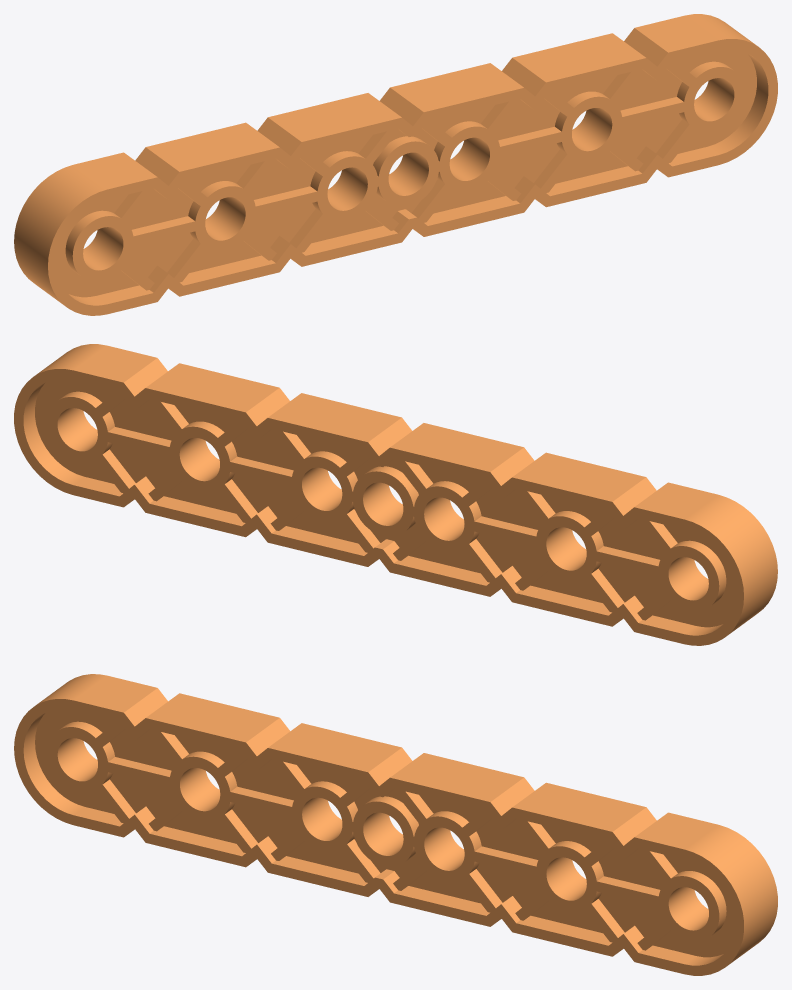
3 views of the same model, one above another, from view 1: azimuth 30°, elevation 25°; view 2: azimuth 150°, elevation 25°; view 3: azimuth 330°, elevation 25° (orthographic).
Visible parts, largest first — view 1: main_ff671f; view 2: main_ff671f; view 3: main_ff671f.
Boxes of the visible parts, x1,y1,x2,y2 form: main_ff671f: [14, 14, 777, 315]; main_ff671f: [14, 344, 777, 645]; main_ff671f: [14, 674, 777, 975].
Size of the model in its own units: 75.88 by 12.4 by 6.1.
